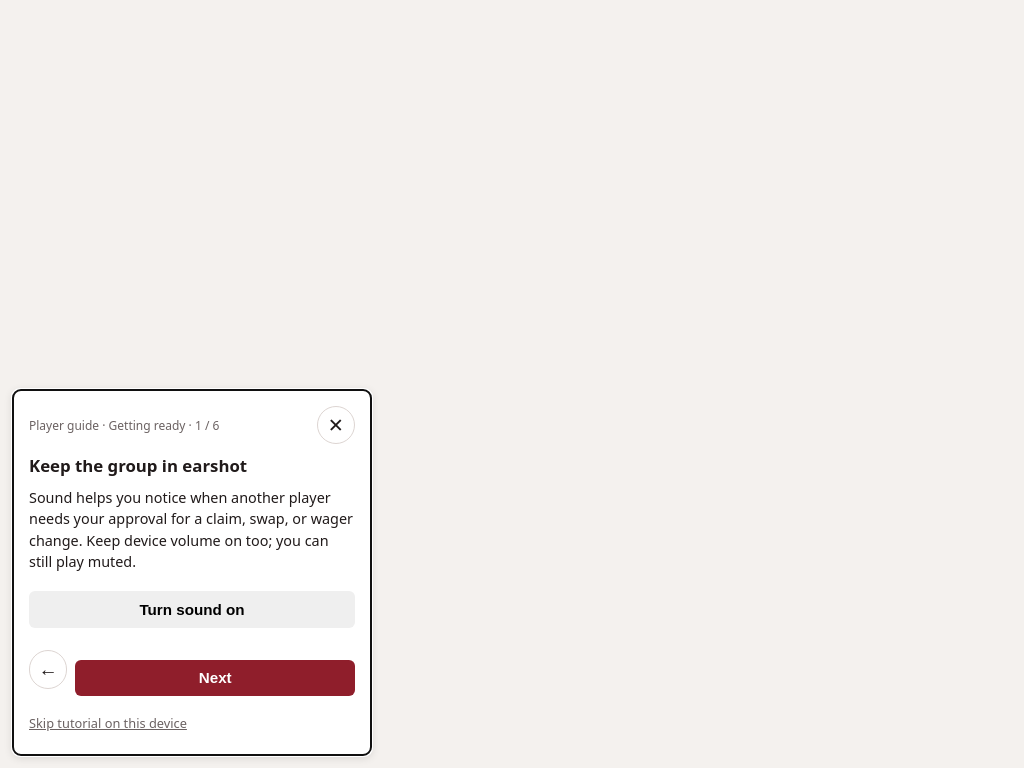
Scenario: GuidedTutorial › lists current menu groups in the optional advanced branch
Click the button "Next": (215,678) top-left (75, 660), bottom-right (355, 696)
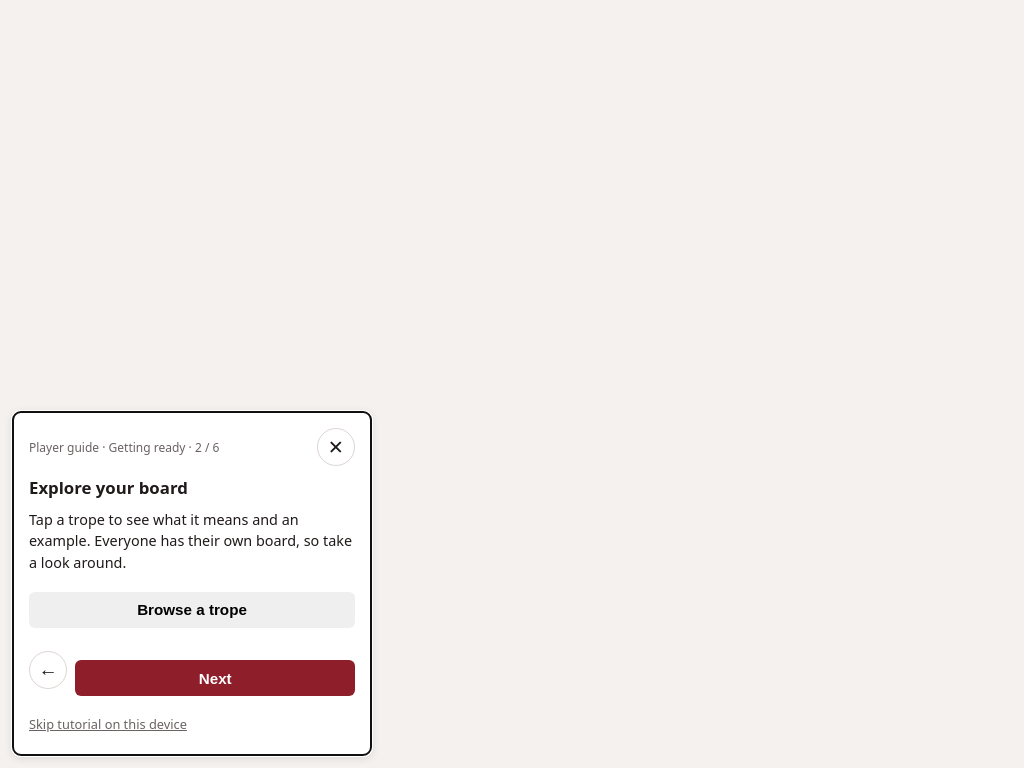
Click the button "Next": (215,678) top-left (75, 660), bottom-right (355, 696)
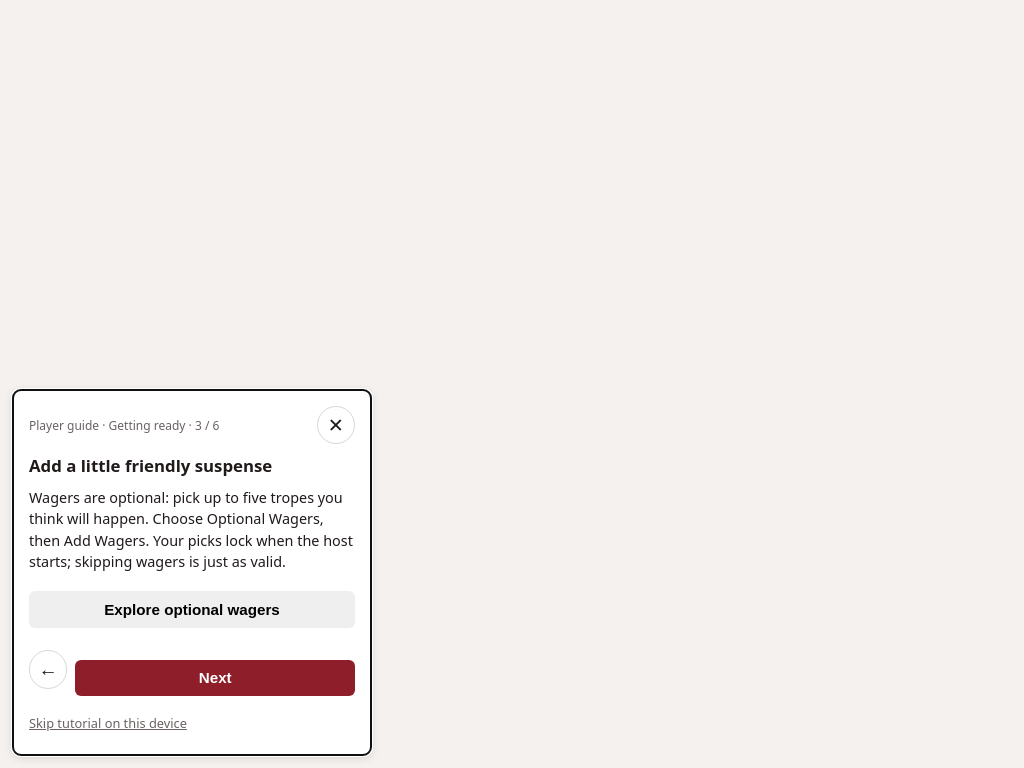
Click the button "Next": (215,678) top-left (75, 660), bottom-right (355, 696)
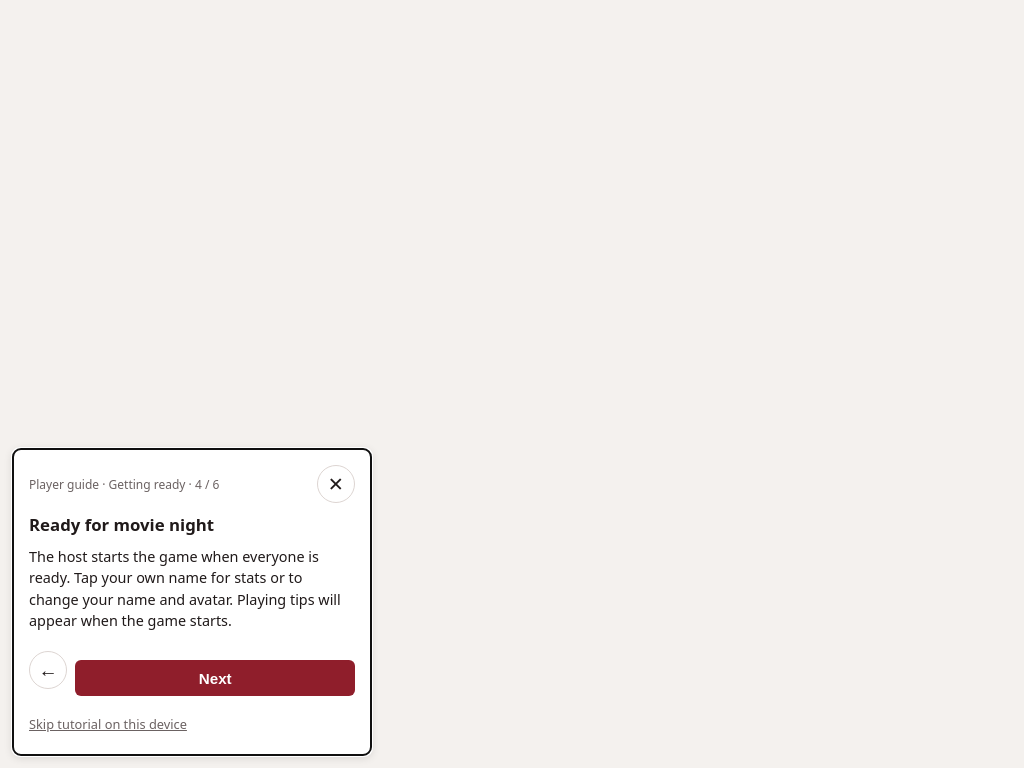
Click the button "Next": (215,678) top-left (75, 660), bottom-right (355, 696)
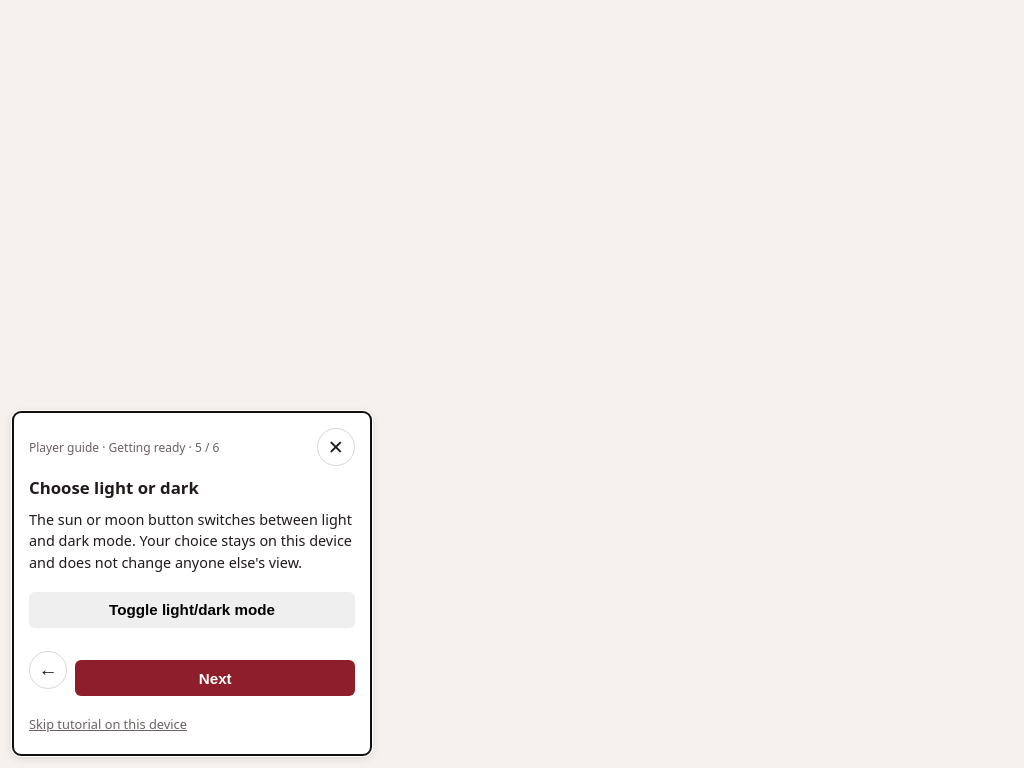
Click the button "Next": (215,678) top-left (75, 660), bottom-right (355, 696)
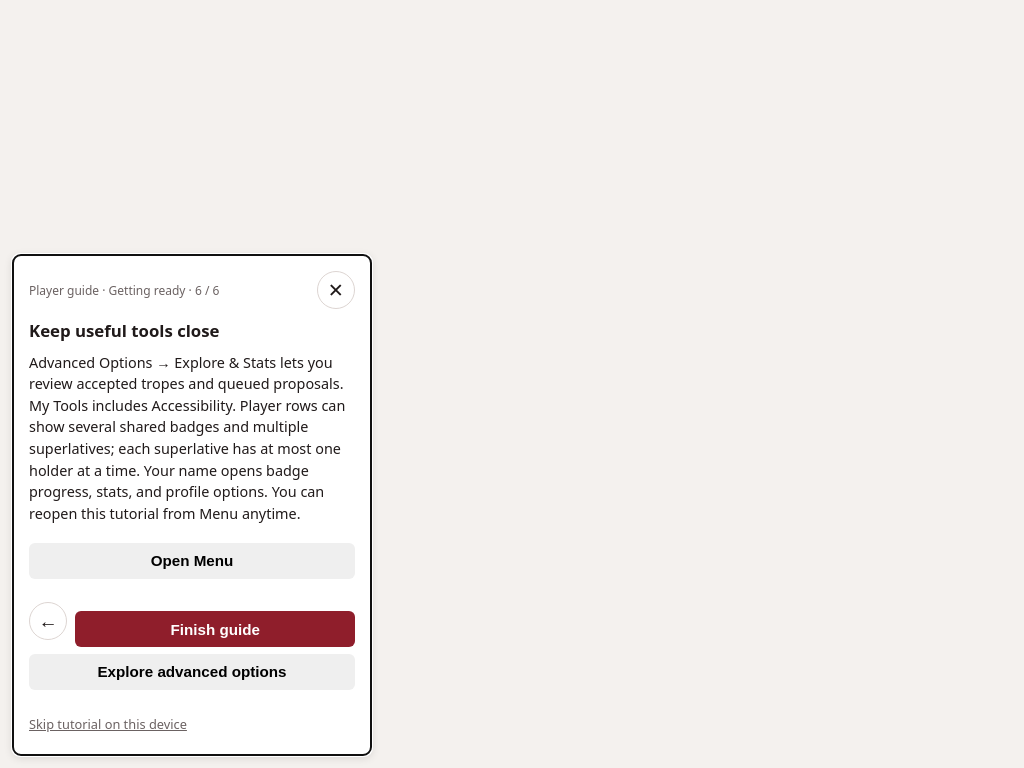
Click the button "Explore advanced options": (192,672) top-left (29, 654), bottom-right (355, 690)
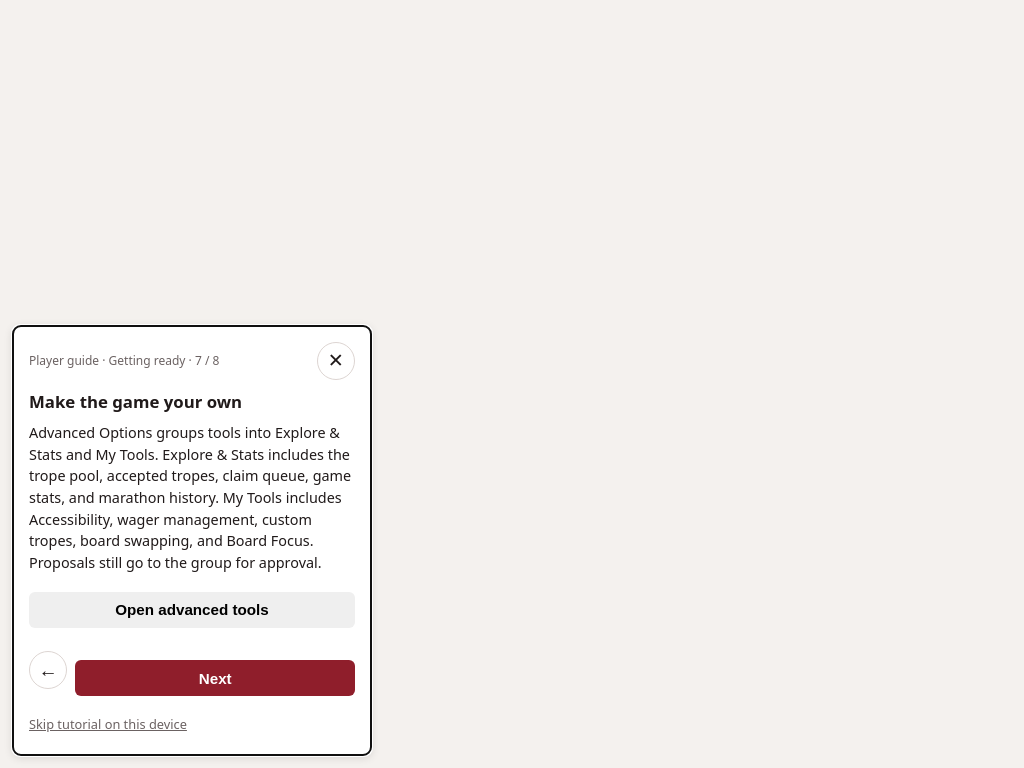
Check: the text "My Tools includes Accessibility, wager management, custom tropes, board swapping, and Board Focus" is shown, box top-left (29, 423), bottom-right (351, 572)
